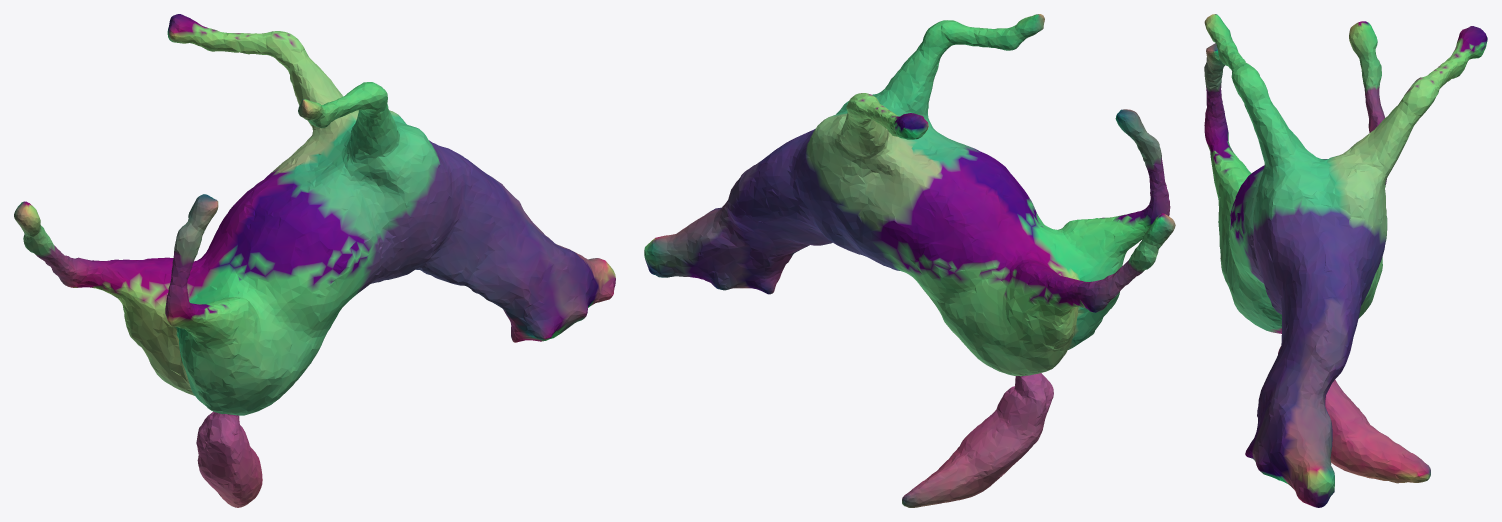
The model's file is horse-11.off.obj.
The picture shows the model from 3 angles, left to right: view 1: azimuth 30°, elevation 25°; view 2: azimuth 150°, elevation 25°; view 3: azimuth 270°, elevation 25°; orthographic projection. The views are drawn at different scales.
Size of the model in its own units: 1.66 by 1.26 by 0.7062.
